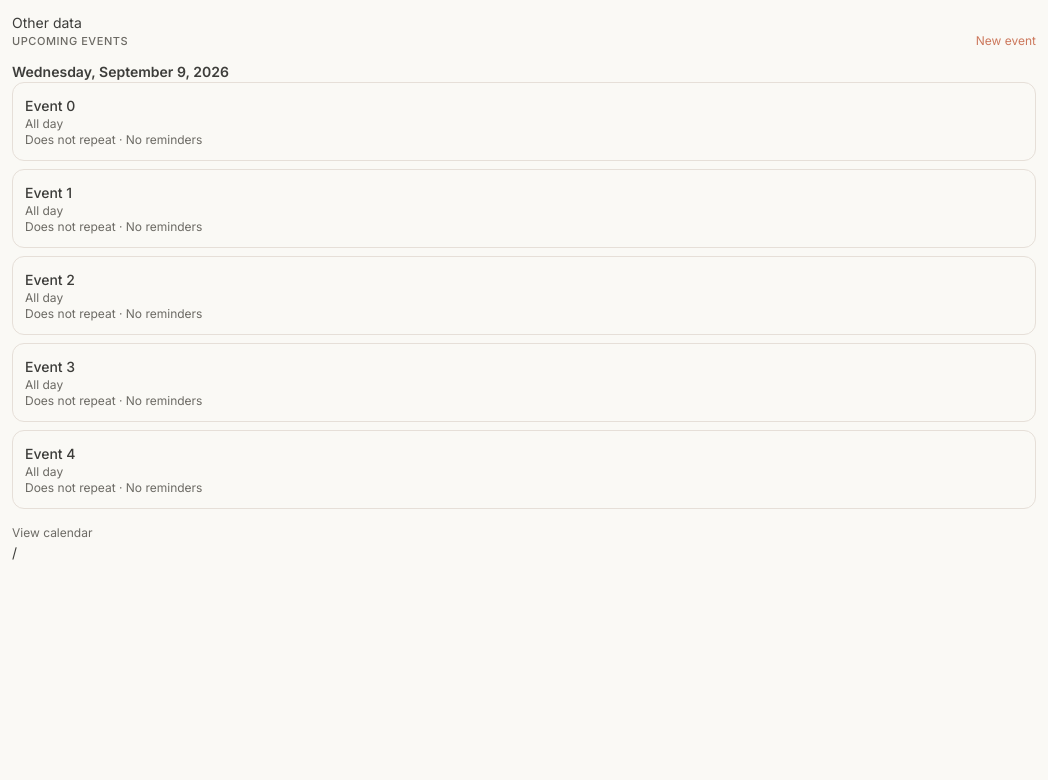
Test: preserves exact project scope on reads and event navigation
Click the button "Event 0 All day Does not repeat · No reminders". click: [50, 105]
box: [12, 82, 1036, 160]
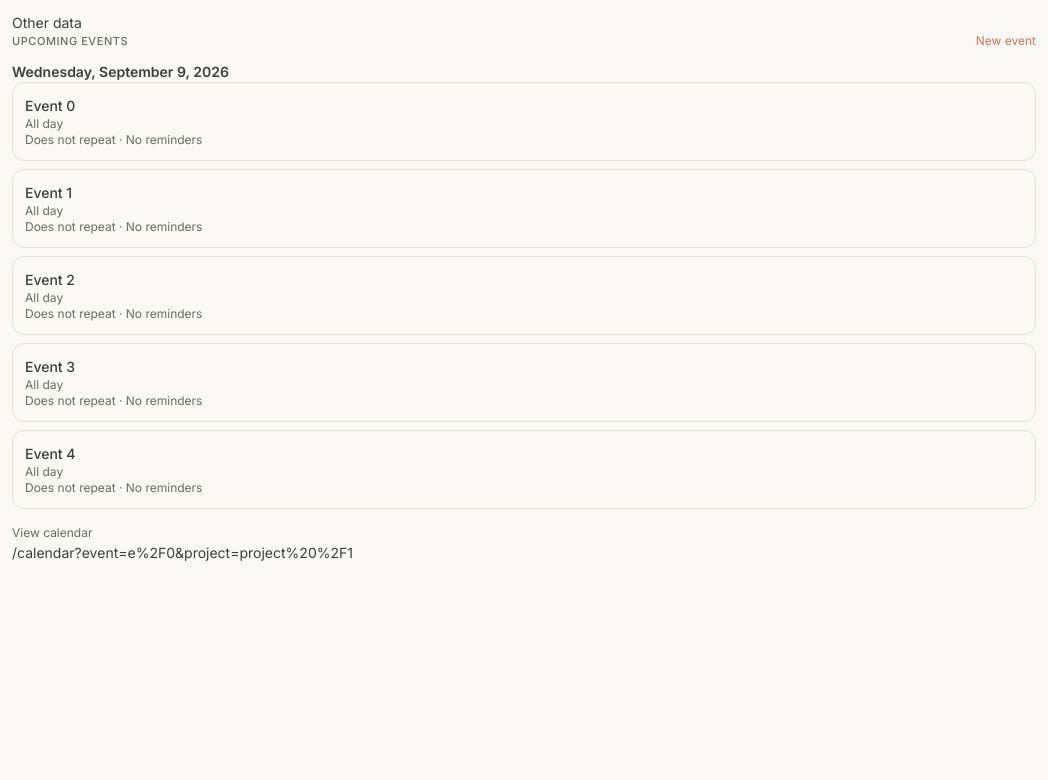
Expected: the text with test id "location" reads "/calendar?event=e%2F0&project=project%20%2F1", [12, 544, 353, 560]
